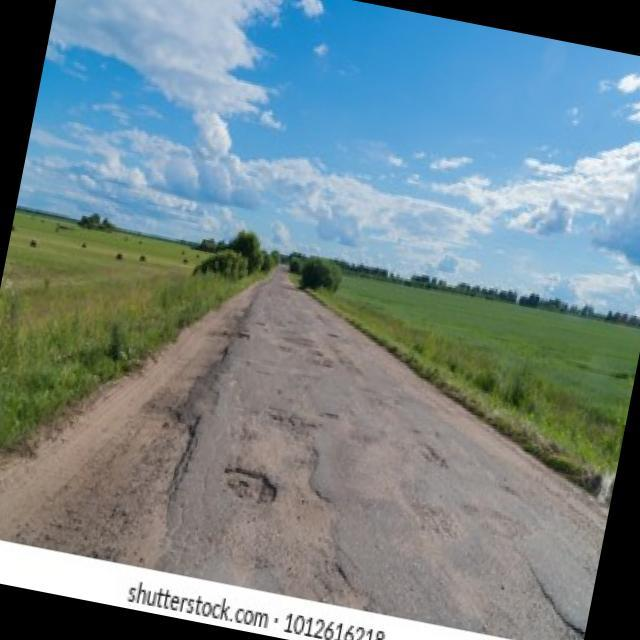Pothole: (216, 463, 280, 509)
